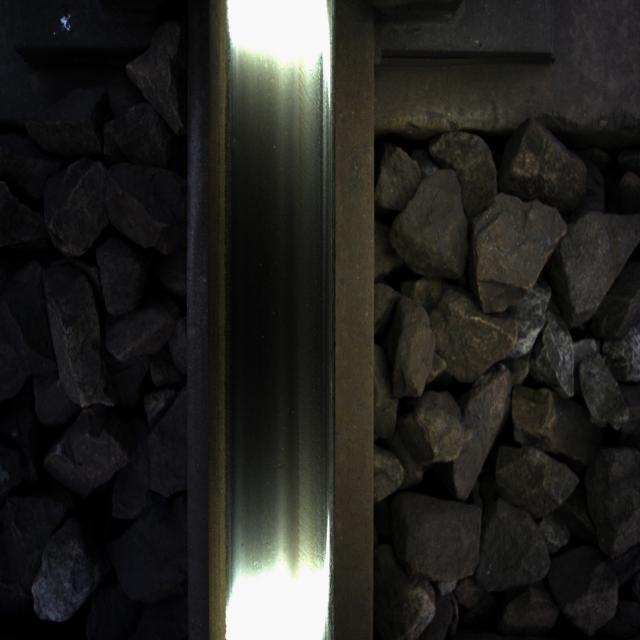break: (232, 24, 326, 601)
